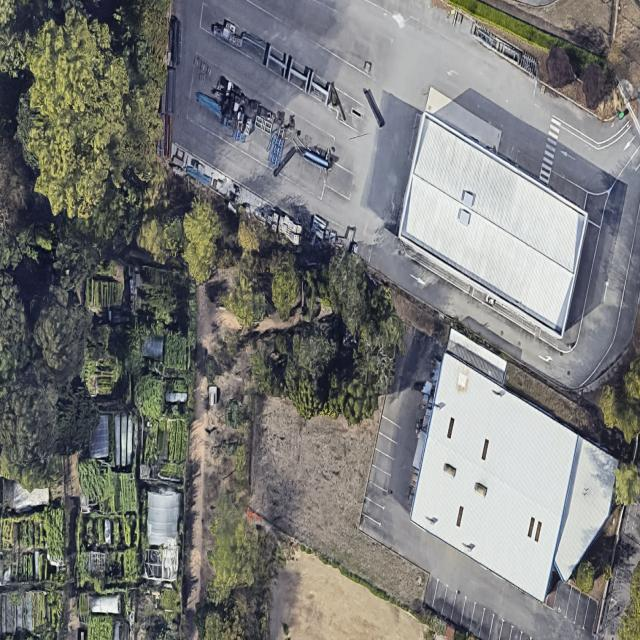immeuble: (359, 346, 639, 610), (359, 107, 626, 342)
